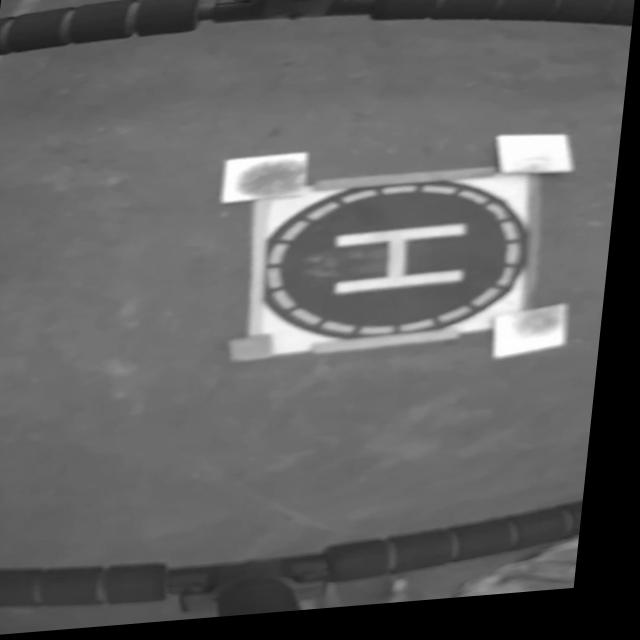Helipad: (338, 230, 478, 302)
